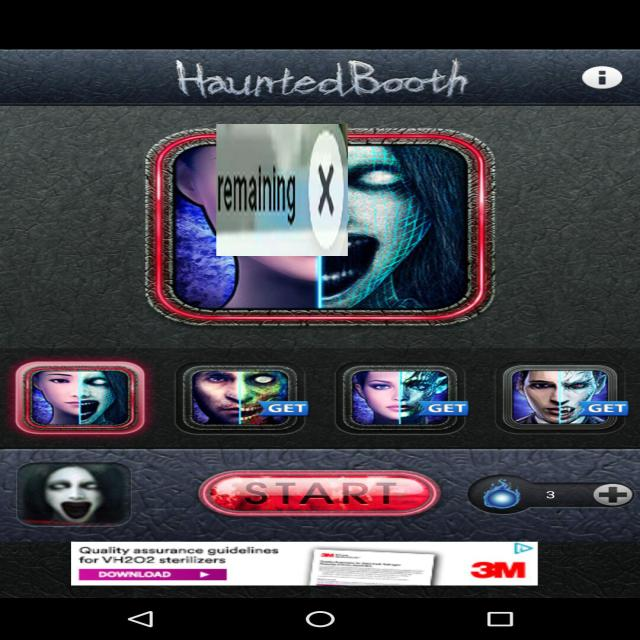misdirection: (216, 124, 348, 256)
